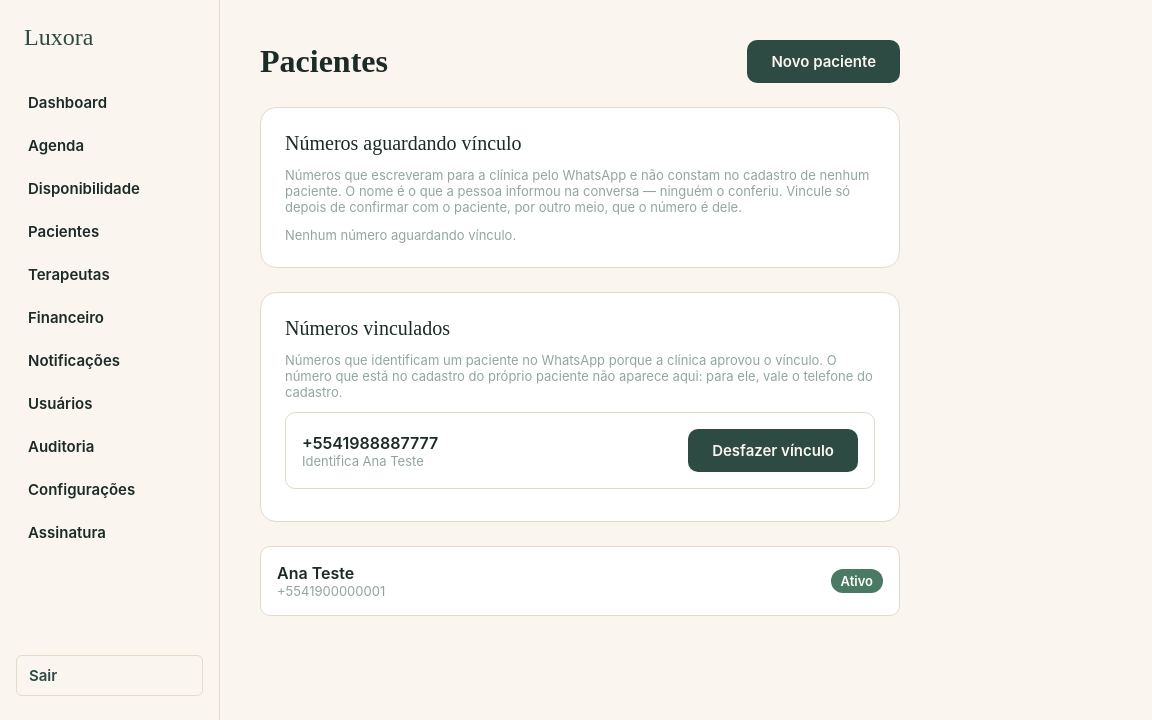
Test: PacientesPage — números vinculados (A-10) › recusa da API: o motivo aparece na própria confirmação e o número continua na lista
This screenshot has width=1152, height=720.
Click the button "Desfazer vínculo". click: (773, 450)
box: [688,429,858,472]
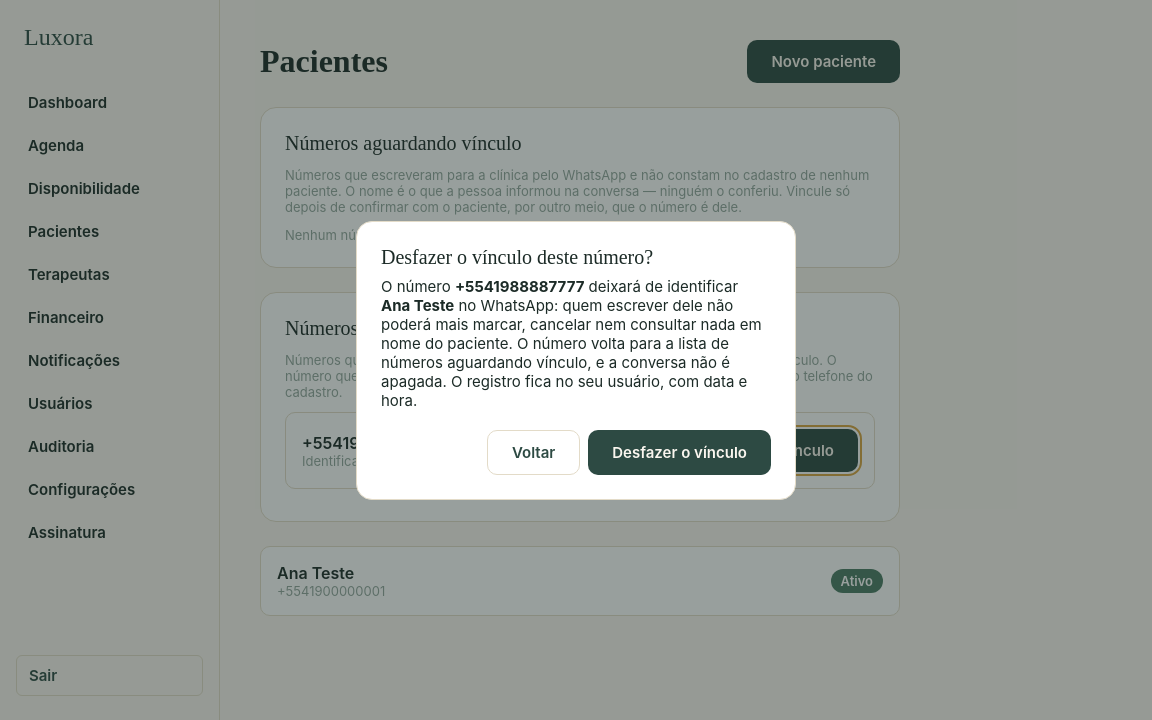
Click the button "Desfazer o vínculo". click: (680, 452)
box: [588,430,771,474]
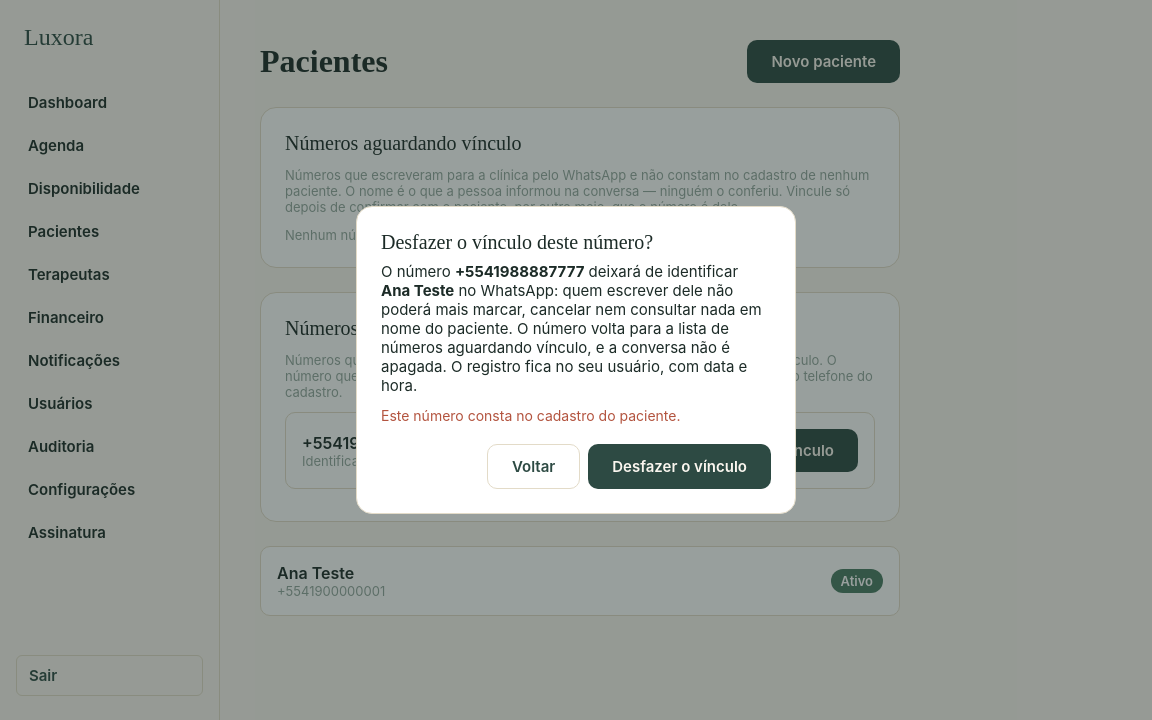
Expected: the button "Desfazer vínculo" is shown, [688,429,858,472]
Now the message reads "Este número consta no cadastro do paciente.", box [381,407,680,424]
